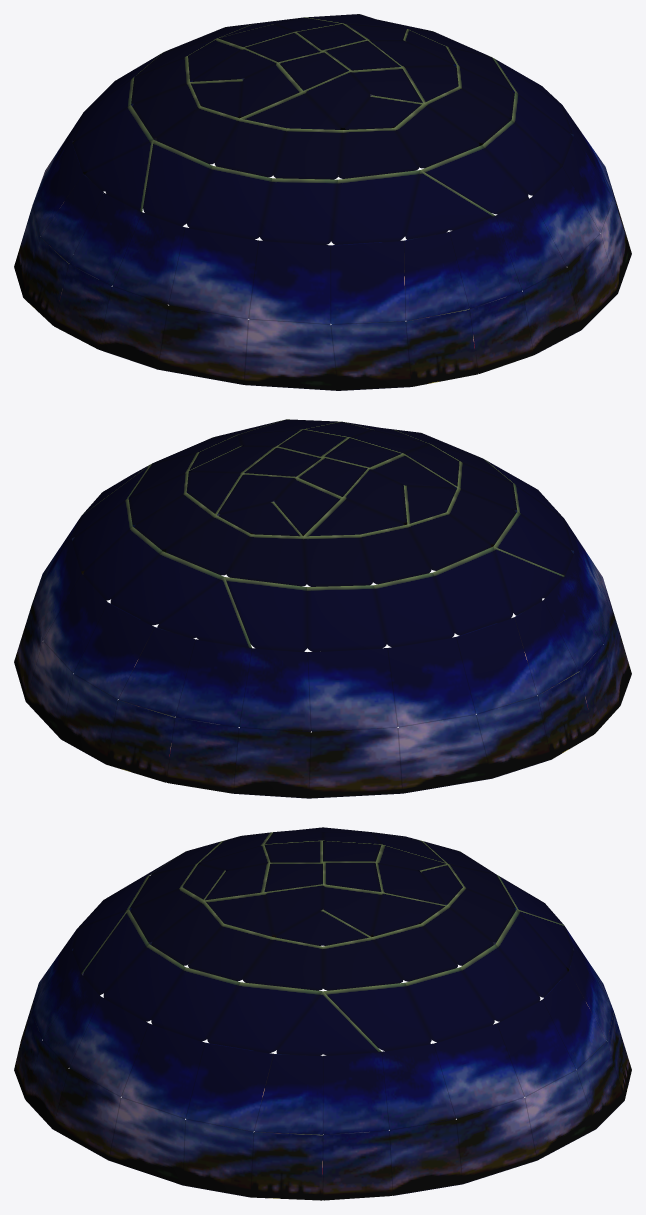
The picture shows the model from 3 angles, top to bottom: view 1: azimuth 30°, elevation 25°; view 2: azimuth 150°, elevation 25°; view 3: azimuth 270°, elevation 25°; orthographic projection.
Parts seen in each view (by area): view 1: T1L6M006_5; view 2: T1L6M006_5; view 3: T1L6M006_5.
Part boxes in pixels (x1,y1,x2,y2): T1L6M006_5: (14,14,631,390); T1L6M006_5: (14,419,631,798); T1L6M006_5: (14,827,631,1200).
Bounding box in the file's own units: 4.09 × 1.52 × 4.09.
